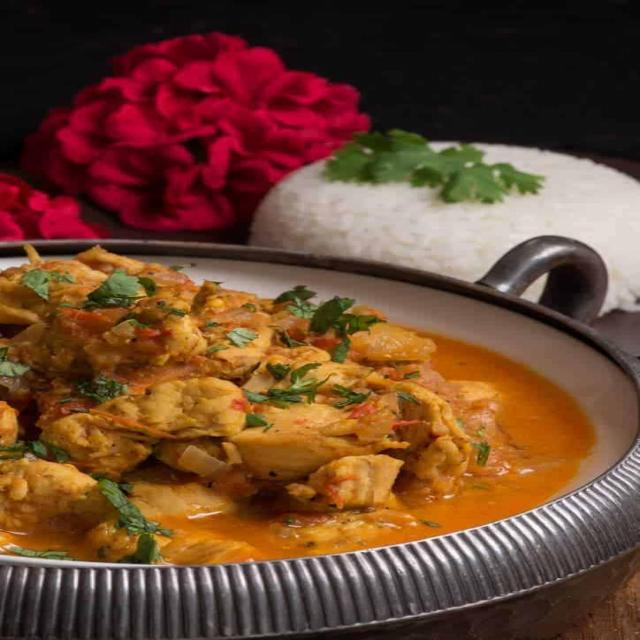chicken: (9, 266, 574, 566)
rice: (268, 138, 640, 275)
